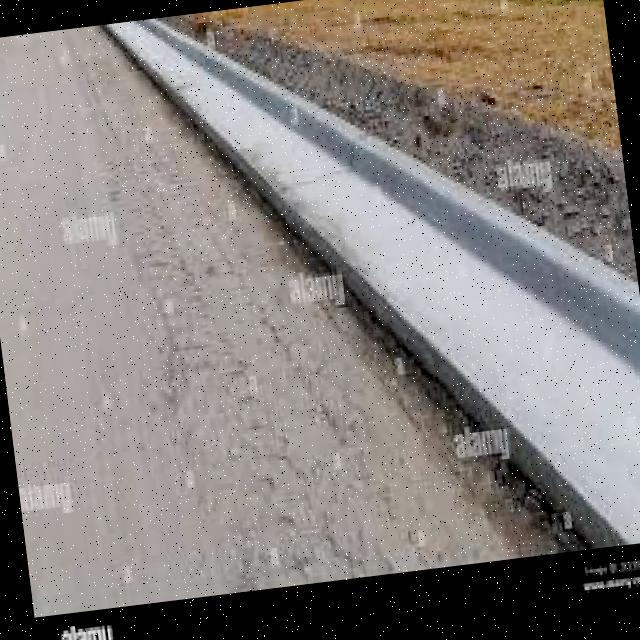curb: (365, 171, 538, 488), (503, 181, 640, 548), (193, 123, 439, 252), (112, 9, 252, 132), (260, 65, 375, 175)
